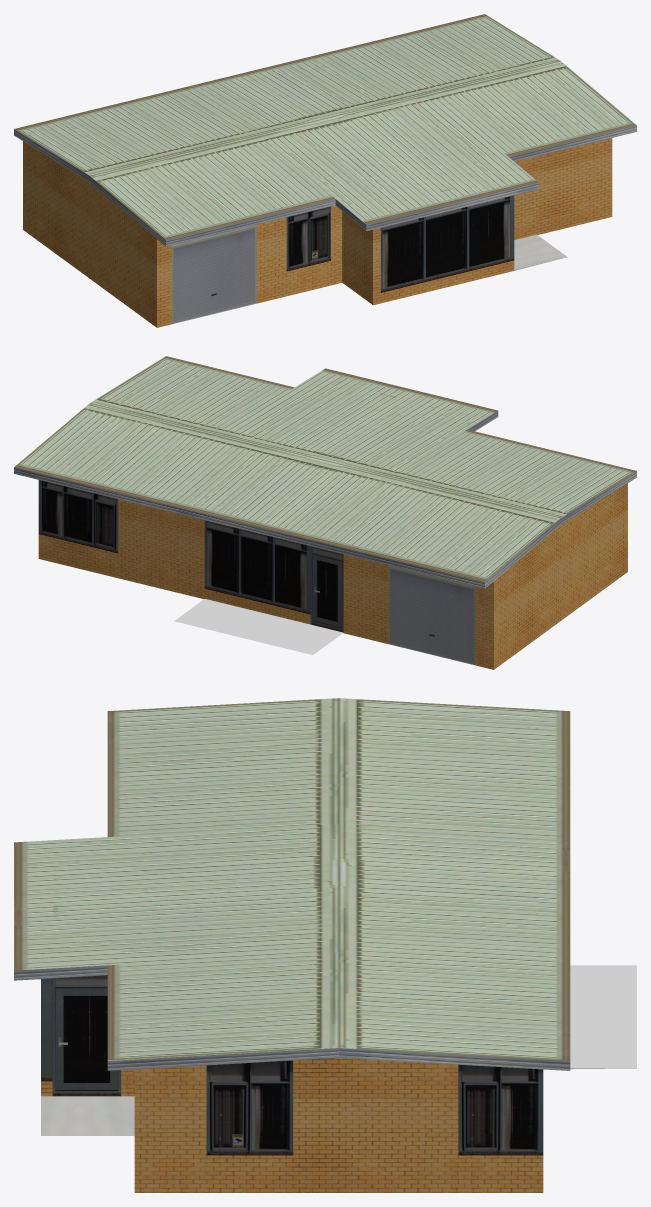
The model's file is terminal-small-08-15x8-cbj_LOD01.gltf.
The picture shows the model from 3 angles, top to bottom: view 1: azimuth 30°, elevation 25°; view 2: azimuth 150°, elevation 25°; view 3: azimuth 270°, elevation 25°; orthographic projection. The views are drawn at different scales.
Parts seen in each view (by area): view 1: Sketchup01; view 2: Sketchup01; view 3: Sketchup01.
Boxes of the visible parts, left/top/right/bottom form: Sketchup01: left=14, top=14, right=636, bottom=327; Sketchup01: left=14, top=356, right=636, bottom=669; Sketchup01: left=14, top=698, right=636, bottom=1192.
Size of the model in its own units: 15 by 3.13 by 11.29.
